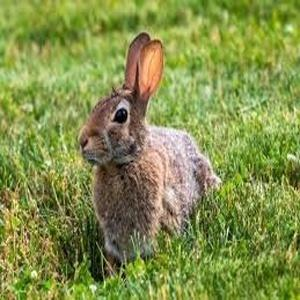rabbit: (81, 32, 219, 263)
